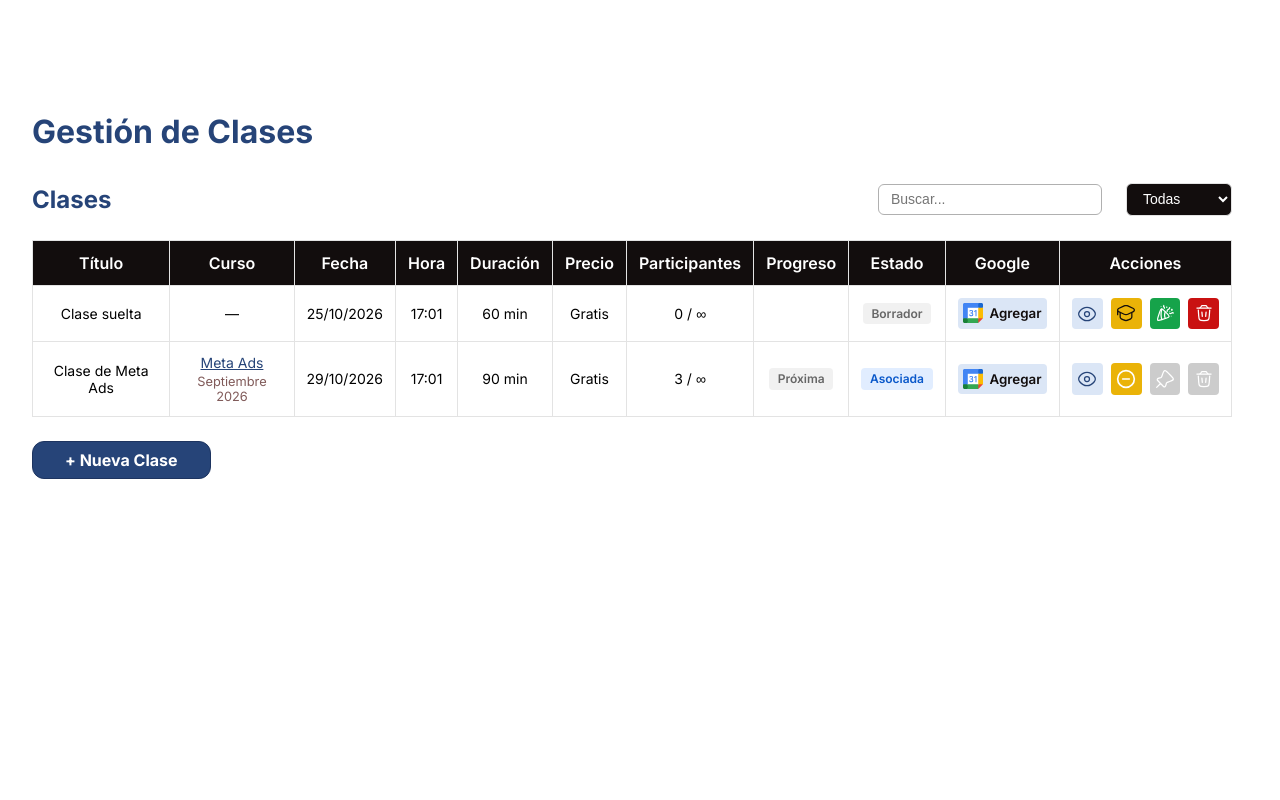
Test: AdminClassesView: classes and editions › links a standalone class to the chosen edition
Click the button named "Vincular a una edición". click: (1126, 314)
box: [1111,298,1142,329]
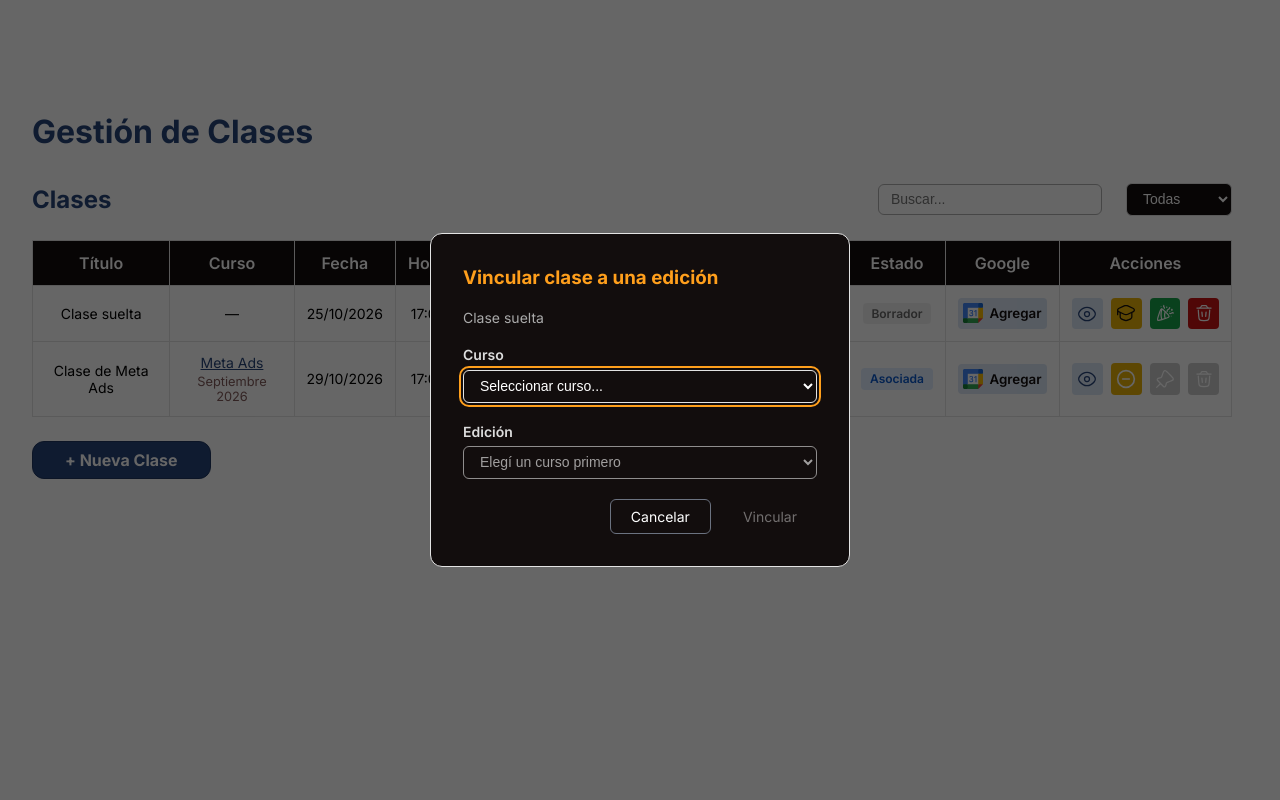
Select "Meta Ads" in the dropdown labelled "Curso". click: (640, 386)
box: [463,370,817,402]
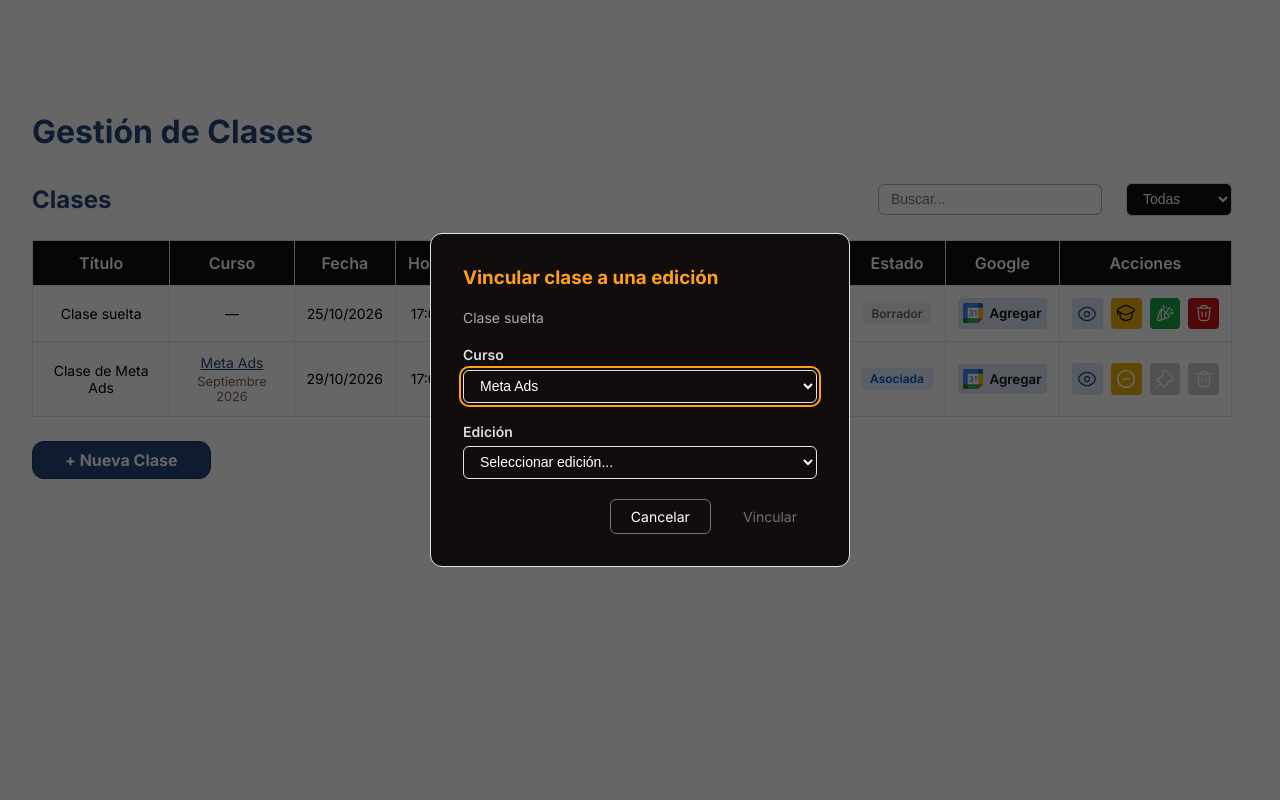
Select "Sin fecha (borrador)" in the dropdown labelled "Edición". click: (640, 462)
box: [463,446,817,479]
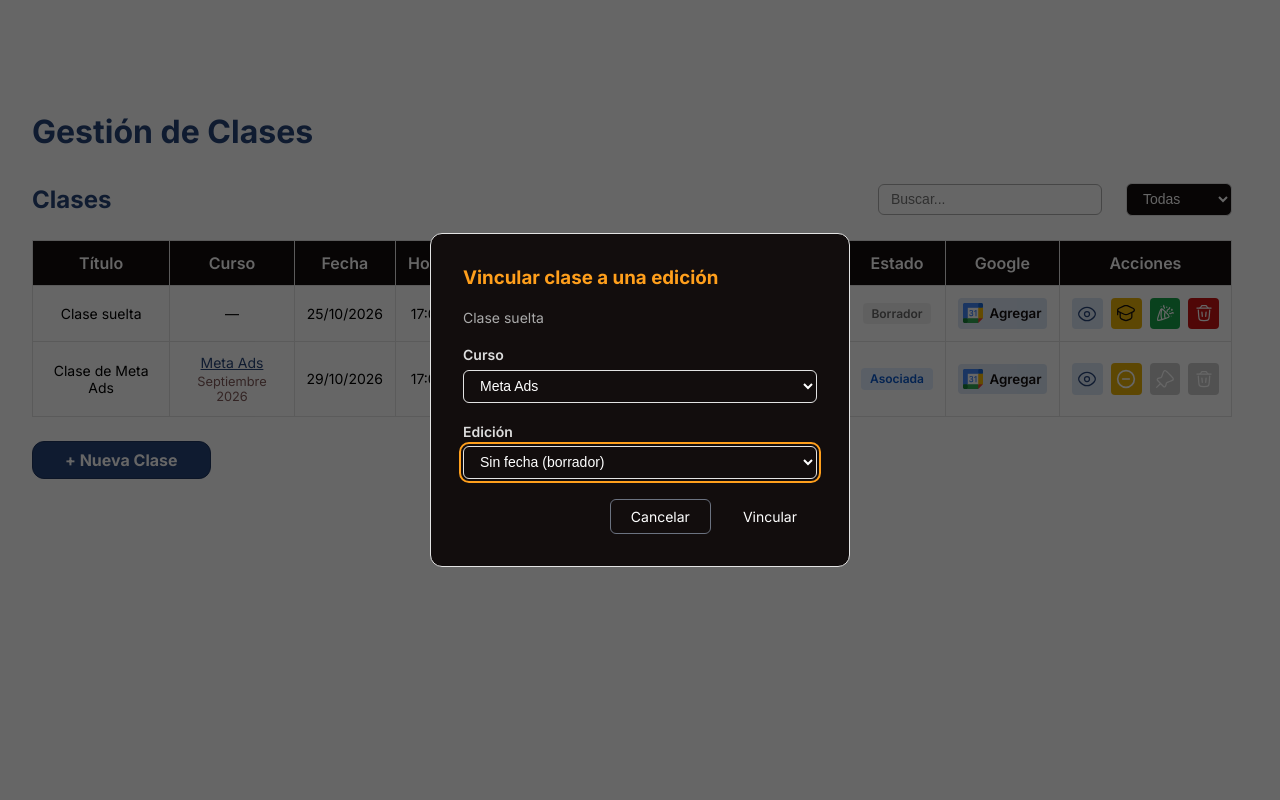
Click the button "Vincular". click: (770, 516)
box: [723,499,817,534]
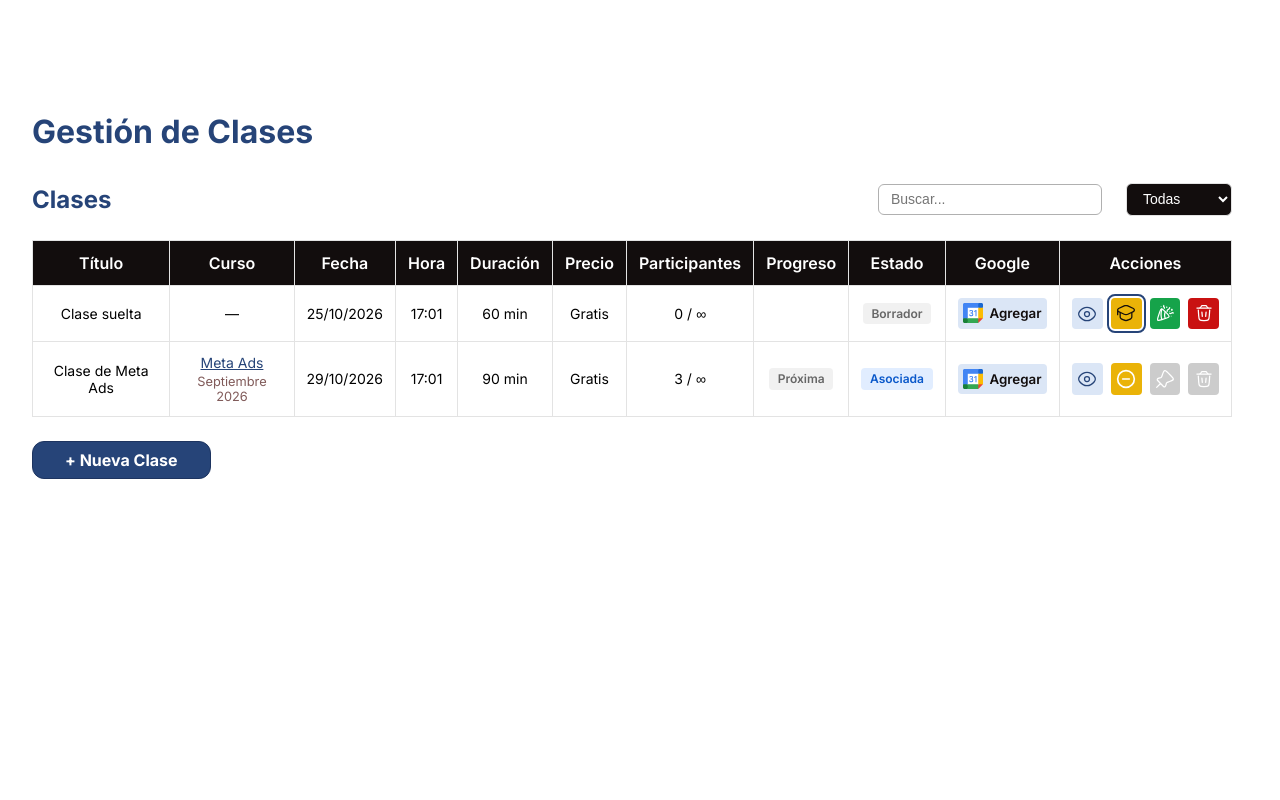
Check: the dialog is gone
